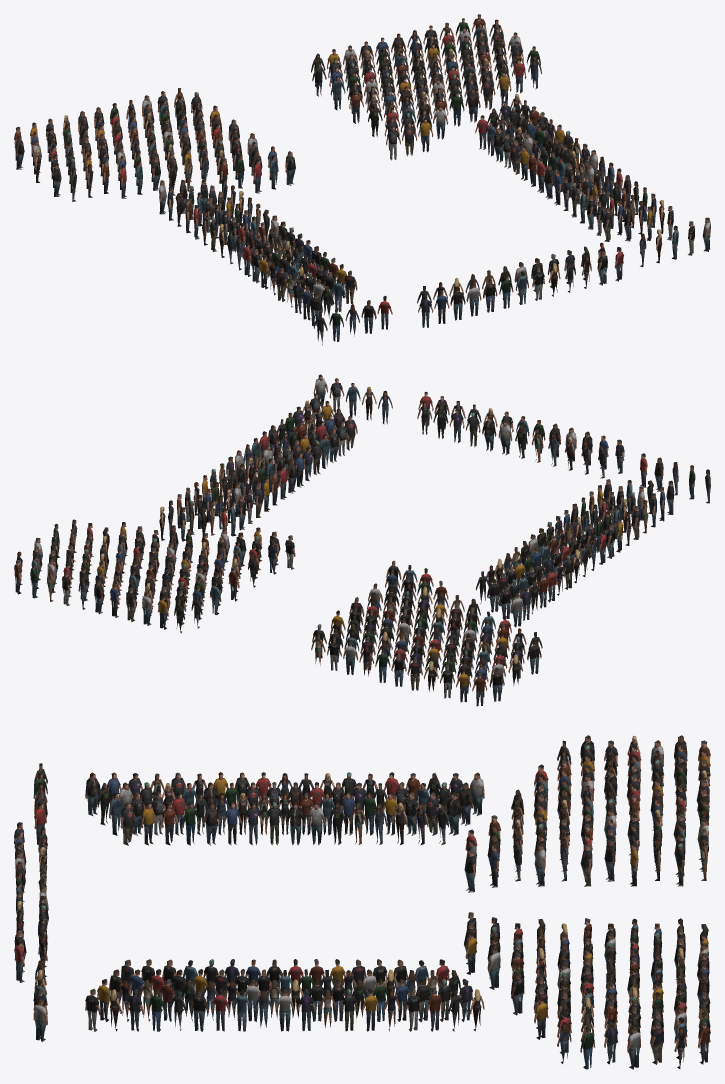
File: wrestlemania26_crowd_lod100.glb
3 renders of one model, top to bottom at view 1: azimuth 30°, elevation 25°; view 2: azimuth 150°, elevation 25°; view 3: azimuth 270°, elevation 25°, orthographic. The views are drawn at different scales.
Parts seen in each view (by area): view 1: Crowd; view 2: Crowd; view 3: Crowd.
Boxes of the visible parts, x1,y1,x2,y2 form: Crowd: [14, 14, 710, 345]; Crowd: [14, 374, 710, 706]; Crowd: [14, 735, 710, 1069].
Bounding box in the file's own units: 30.19 × 1.97 × 29.93.
20 materials, 20 textured.
